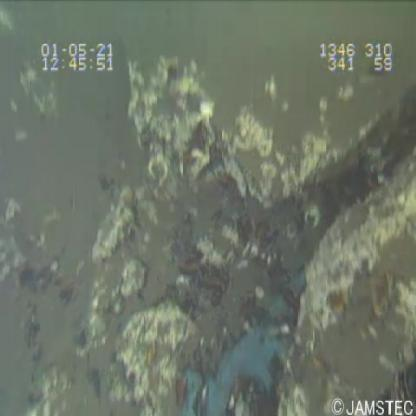Rác: (175, 268, 318, 416)
